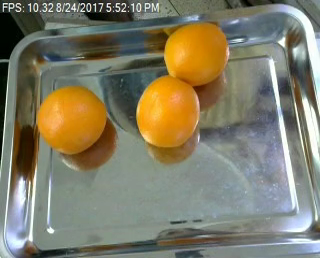Orange: (36, 84, 106, 152), (136, 75, 200, 147), (163, 21, 229, 85)
